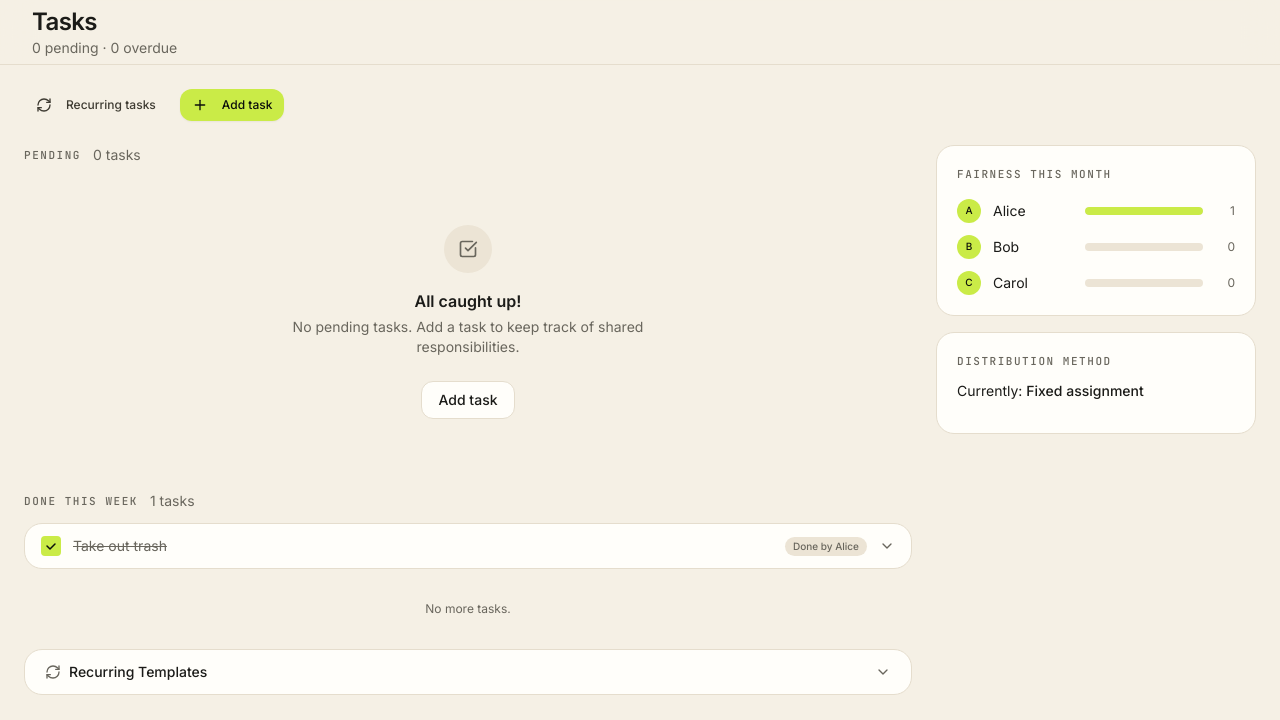
Test: <TasksPage /> mode matrix › J-m.7 — roommates + fixed: non-creator member sees no AssignSelect, no Delete, disabled Mark-incomplete on others' completed task
Click the text "Take out trash" at (120, 546), box [73, 537, 167, 554]
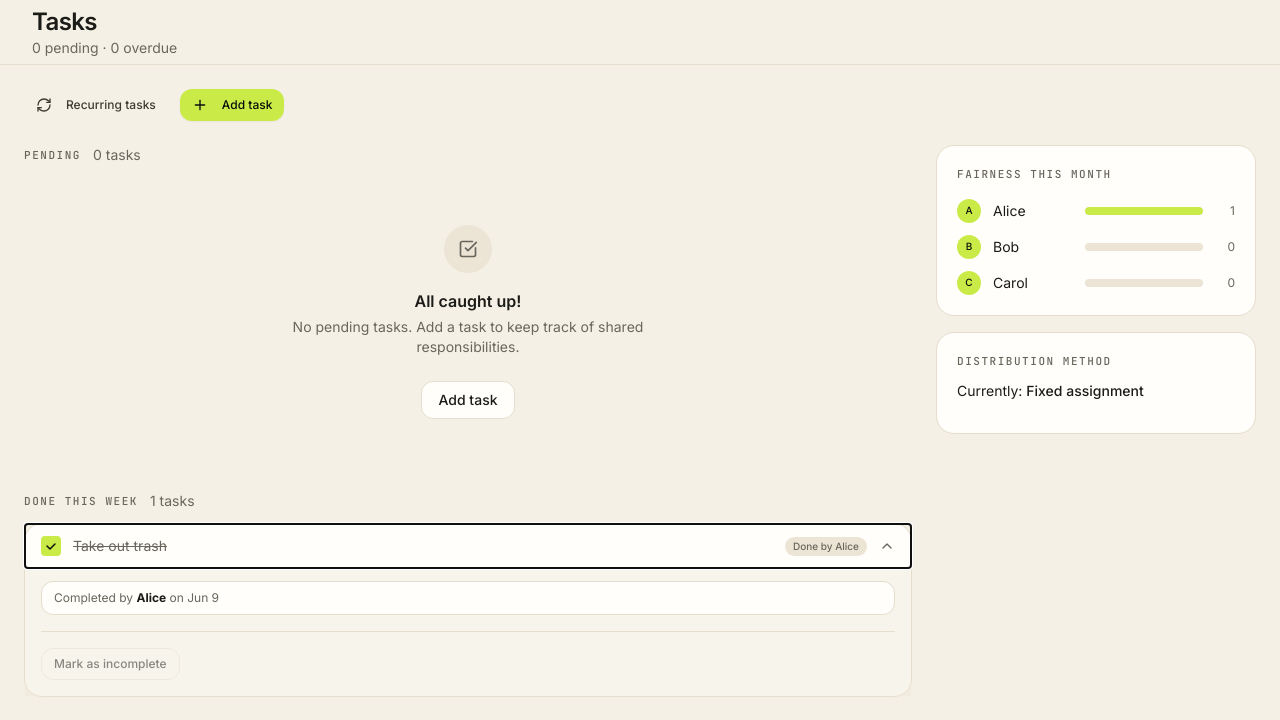
Check: the button "Mark as incomplete" is disabled, box [41, 648, 180, 680]
